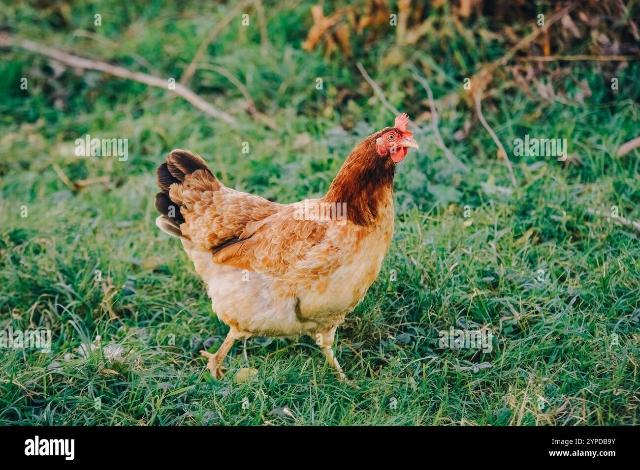Chicken: (154, 111, 422, 386)
